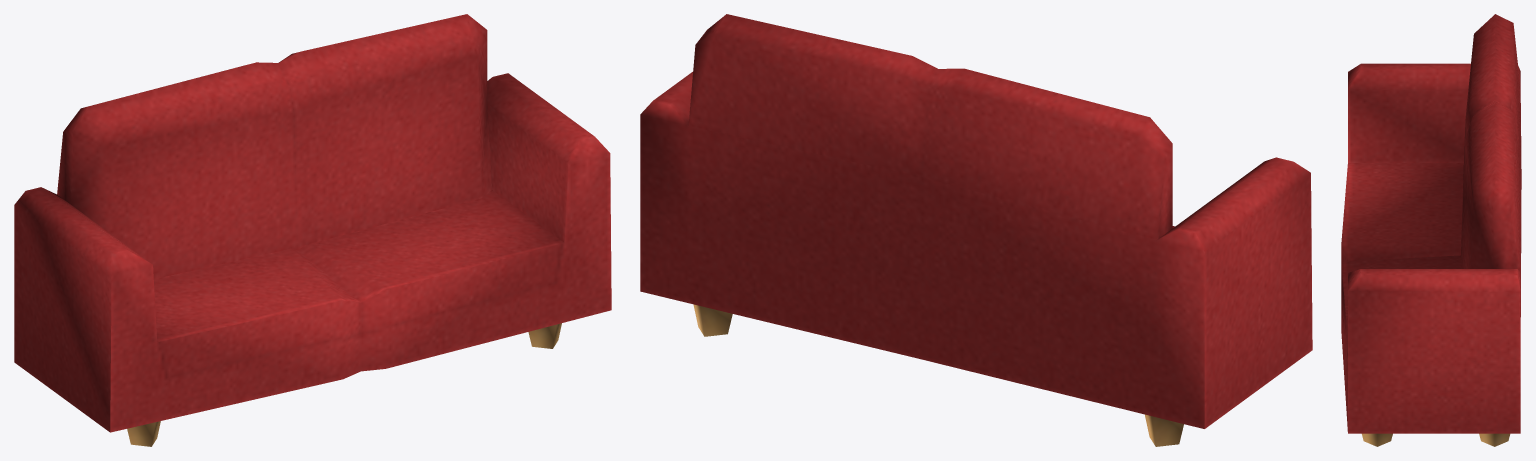
The model's file is sb_obj_ModernCity070_sofa_a.fbx.
The picture shows the model from 3 angles, left to right: view 1: azimuth 30°, elevation 25°; view 2: azimuth 150°, elevation 25°; view 3: azimuth 270°, elevation 25°; orthographic projection. The views are drawn at different scales.
Visible parts, largest first — view 1: sb_obj_ModernCity070_sofa_a; view 2: sb_obj_ModernCity070_sofa_a; view 3: sb_obj_ModernCity070_sofa_a.
Part boxes in pixels (<box>): sb_obj_ModernCity070_sofa_a: <box>14,14,611,446</box>; sb_obj_ModernCity070_sofa_a: <box>640,14,1312,446</box>; sb_obj_ModernCity070_sofa_a: <box>1341,14,1521,446</box>.
Size of the model in its own units: 1.6 by 0.877 by 0.5527.
Materials: 1 (1 with a texture image).
